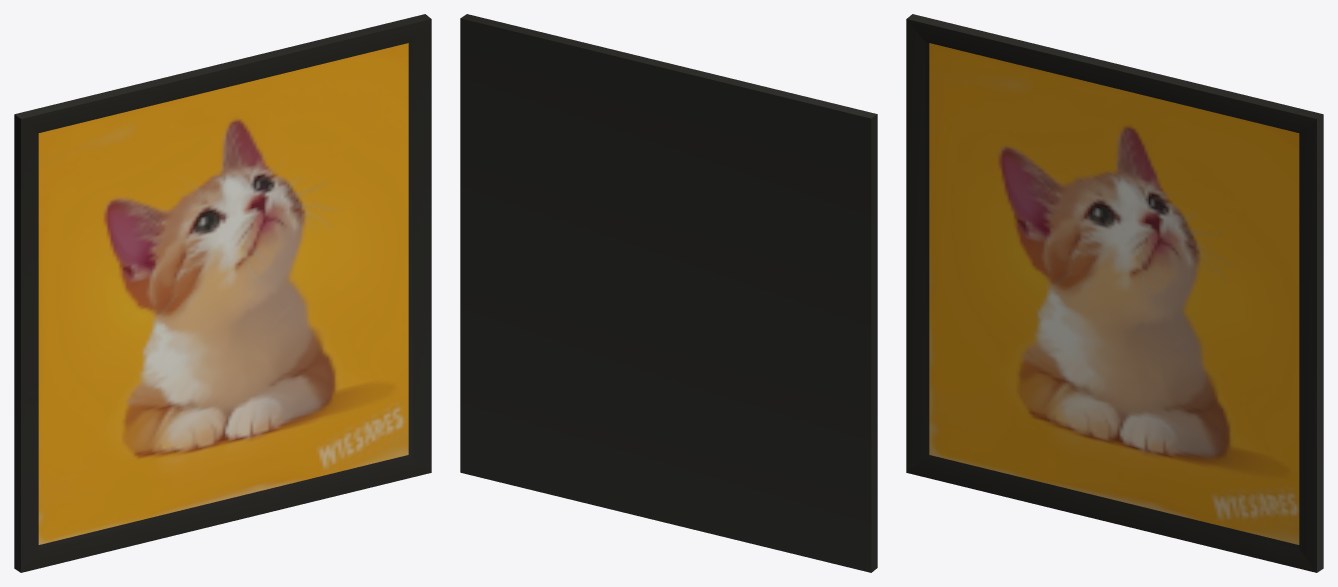
Rendered from Frame_3.fbx.
3 renders of one model, left to right at view 1: azimuth 30°, elevation 25°; view 2: azimuth 150°, elevation 25°; view 3: azimuth 330°, elevation 25°, orthographic.
Parts seen in each view (by area): view 1: Frame_3; view 2: Frame_3; view 3: Frame_3.
Boxes of the visible parts, box(x1,y1,x2,y2) form: Frame_3: box(14, 14, 431, 572); Frame_3: box(460, 14, 877, 572); Frame_3: box(906, 14, 1323, 572).
Size of the model in its own units: 66.25 by 69.99 by 1.79.
